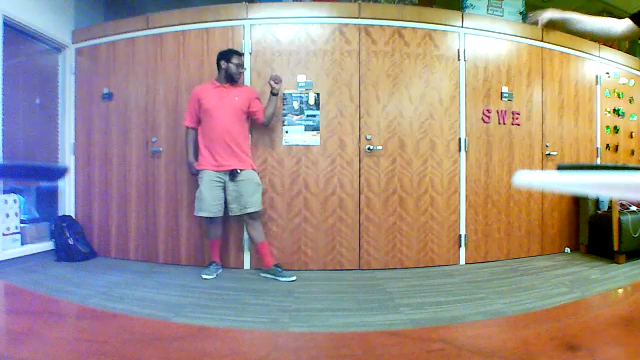up: (268, 62, 285, 99)
